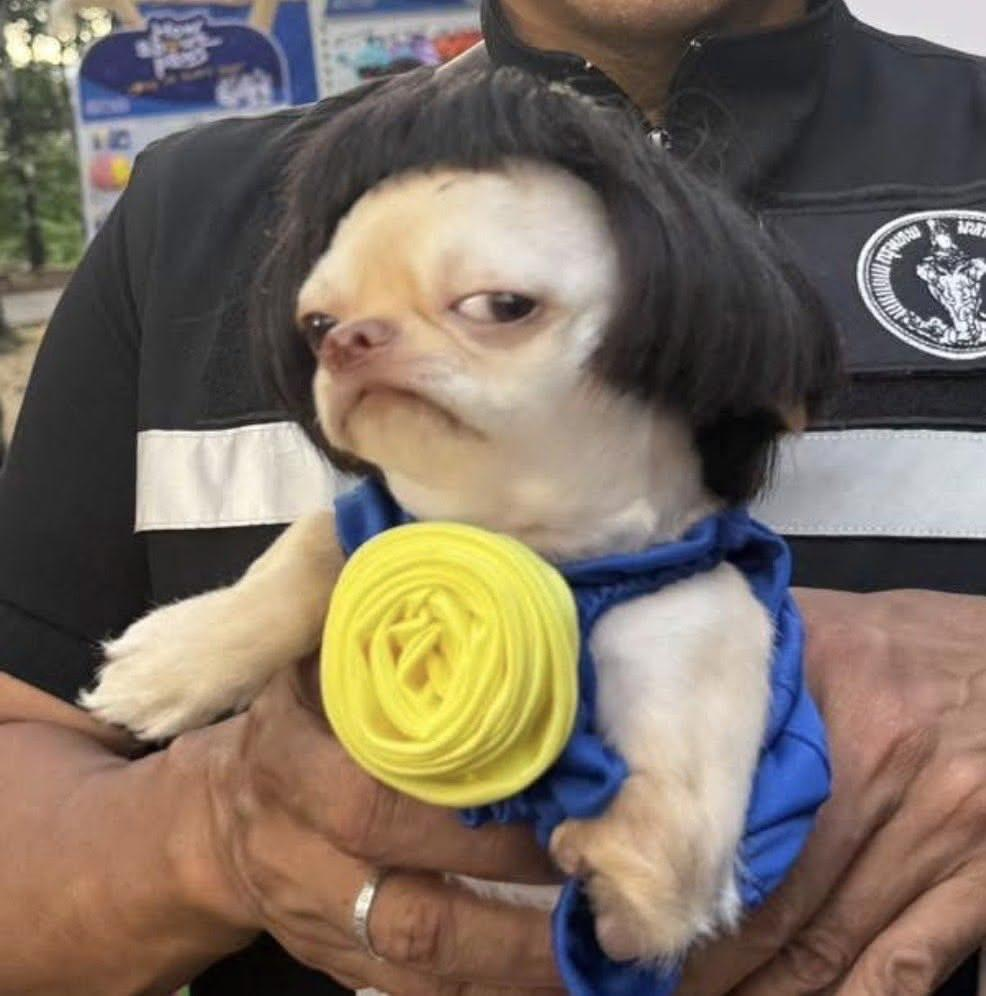adult_dog: (75, 69, 842, 985)
